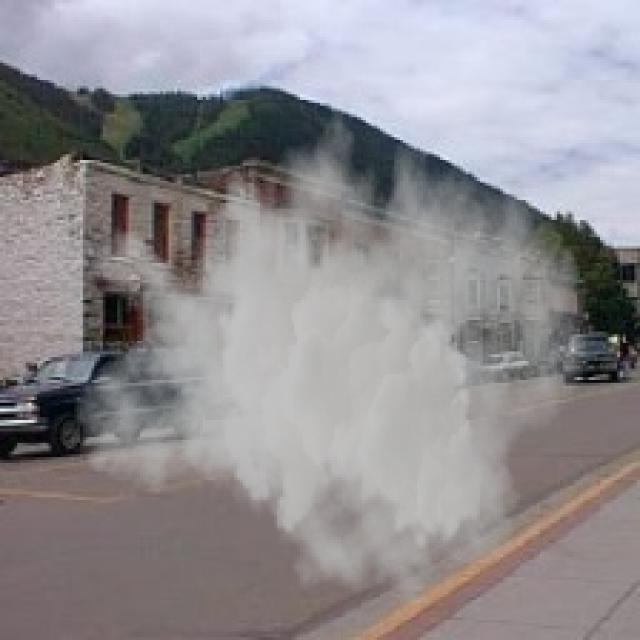Smoke: (71, 86, 588, 608)
